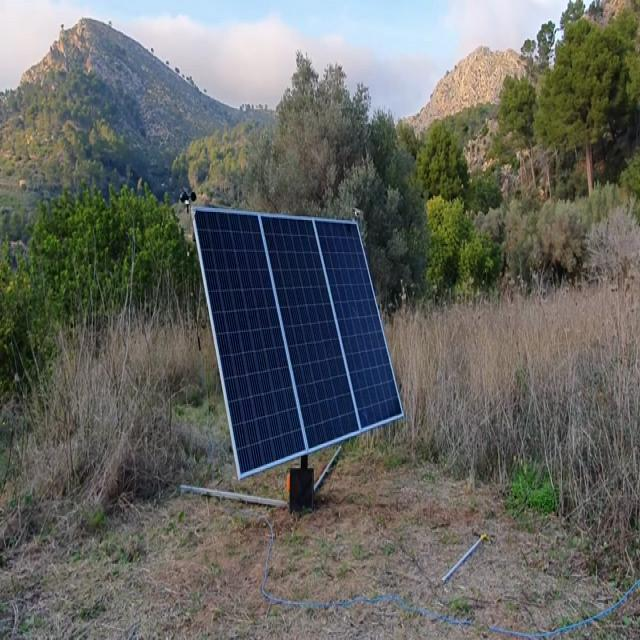Normal Solar Panel: (196, 208, 405, 479)
